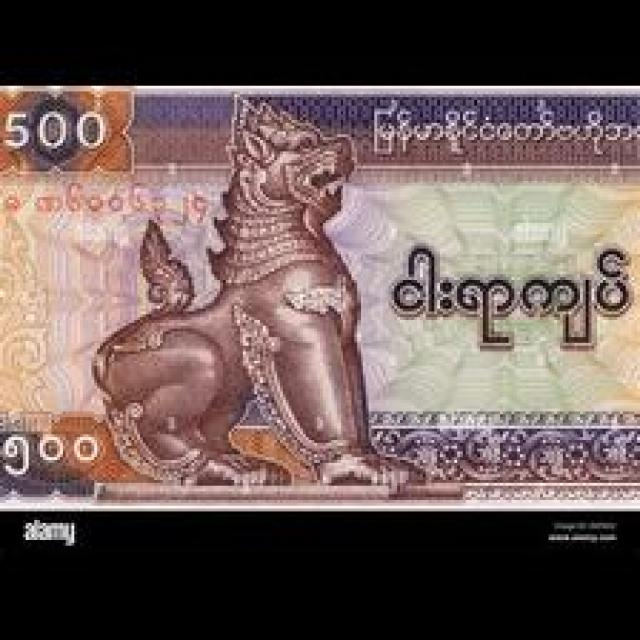banknote: (0, 88, 634, 508)
